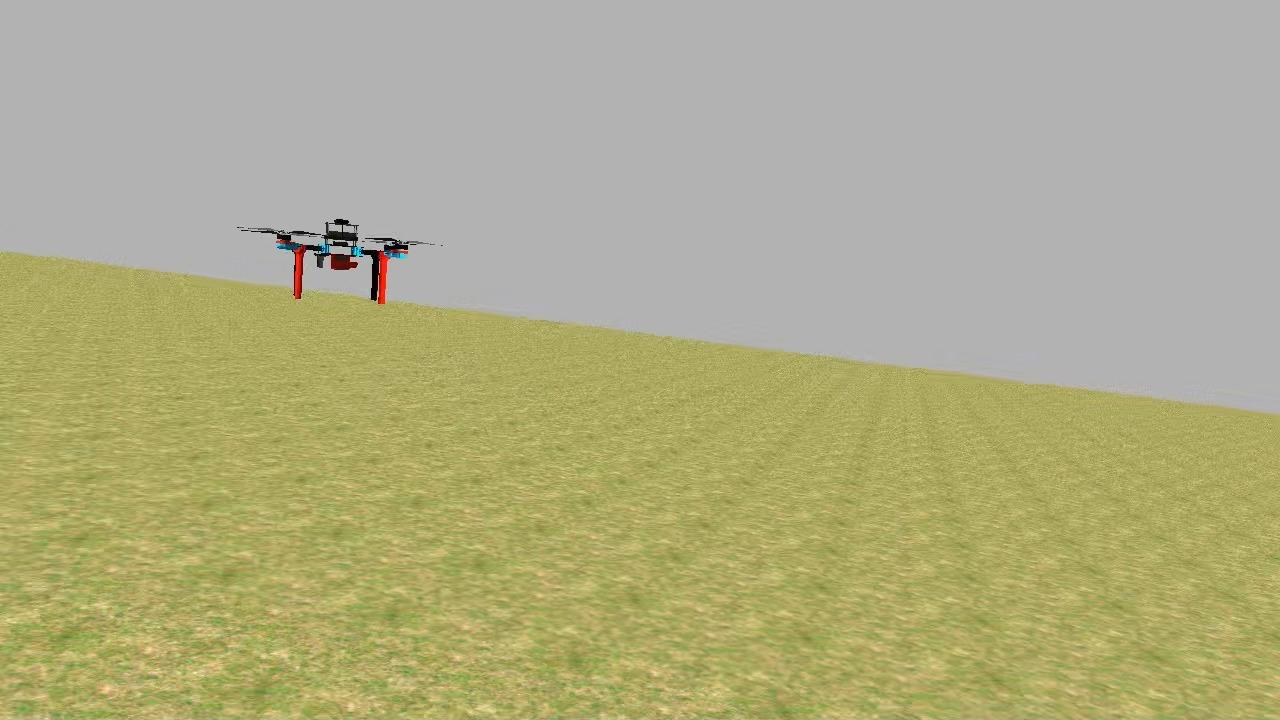UAV: (272, 212, 418, 312)
